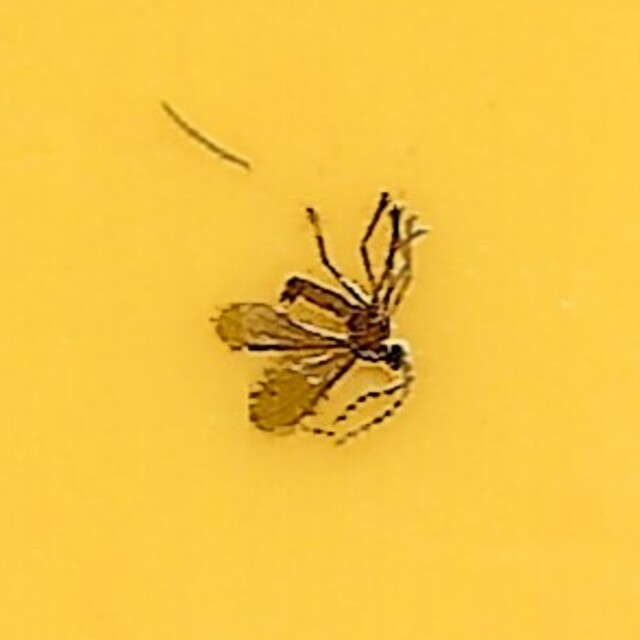Hymenoptera: (218, 198, 422, 442)
